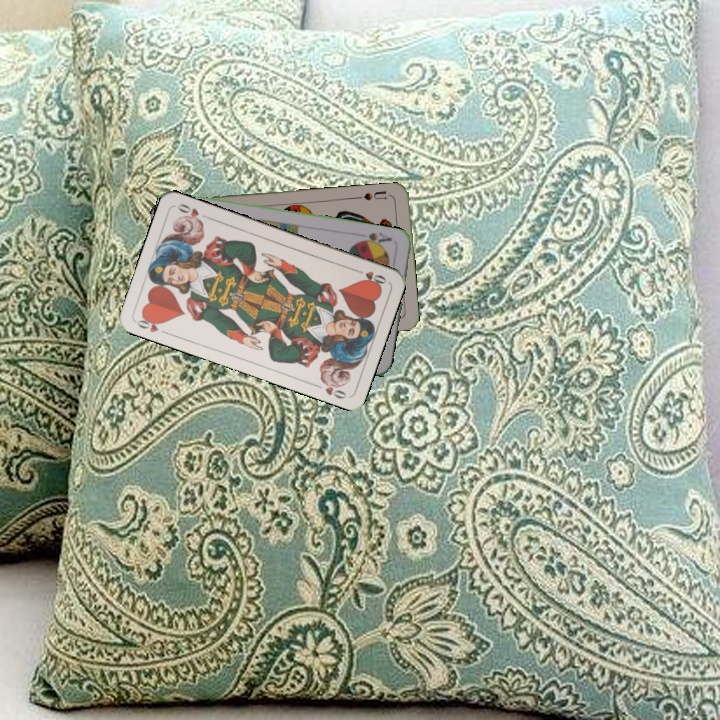HO: (132, 311, 172, 337), (350, 265, 389, 288)
SA: (356, 228, 394, 249)
SU: (360, 187, 394, 203)
